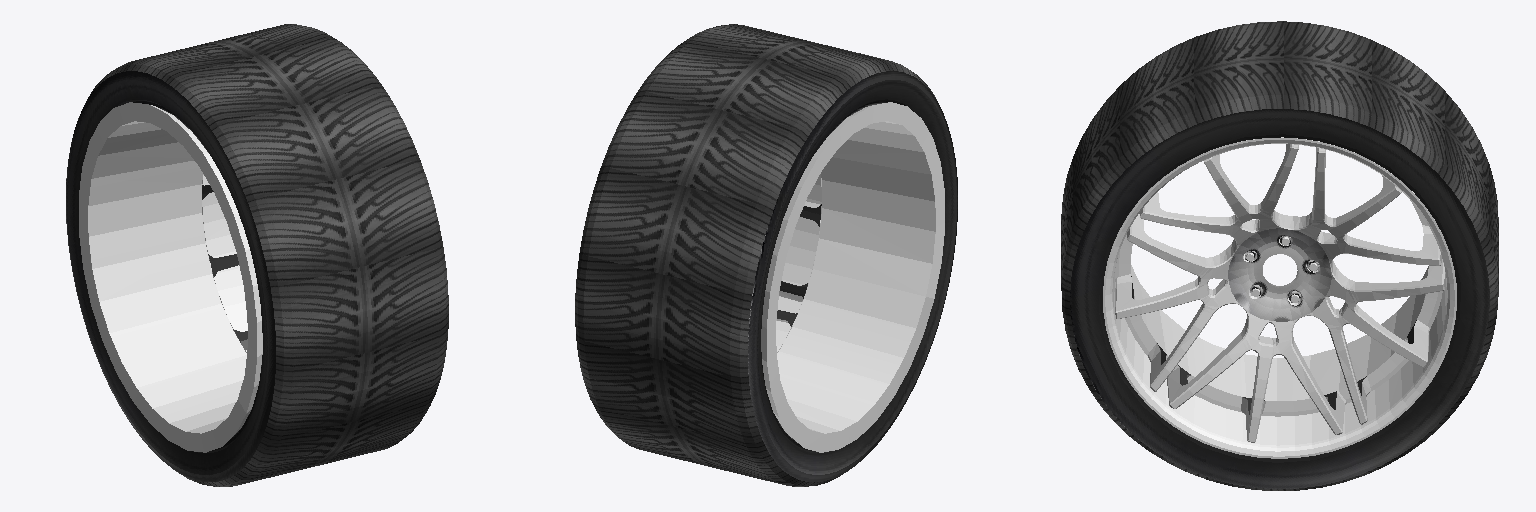
The picture shows the model from 3 angles: view 1: azimuth 30°, elevation 25°; view 2: azimuth 150°, elevation 25°; view 3: azimuth 270°, elevation 25°; orthographic projection.
Visible parts, largest first — view 1: wheel_rb; view 2: wheel_rb; view 3: wheel_rb.
Part boxes in pixels (x1,y1,x2,y2): wheel_rb: (66,24,448,486); wheel_rb: (575,24,957,486); wheel_rb: (1061,21,1498,490).
Size of the model in its own units: 2.44 by 5.24 by 5.24.
Materials: 1 (1 with a texture image).